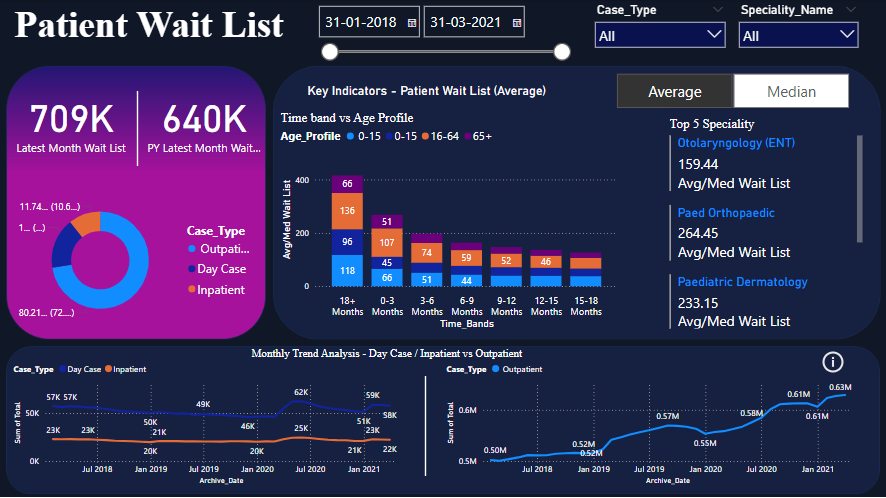

Layout of this report page (visuals, bound fields, positions):
{"tool":"powerbi","page":{"name":"Summary","canvas":[1280,720],"ordinal":0},"visuals":[{"type":"card","fields":{"Values":["All_Data.Latest Month Wait List"]},"box":[16,112,176,128],"z":0},{"type":"card","fields":{"Values":["All_Data.PY Latest Month Wait List"]},"box":[208,112,176,128],"z":1000},{"type":"slicer","fields":{"Values":["Calculation Method.Calc Method"]},"box":[864,100.8,384.5,63.4],"z":2000},{"type":"donutChart","fields":{"Category":["All_Data.Case_Type"],"Y":["All_Data.Avg/Med Wait List"]},"box":[16,272,368,208],"z":3000},{"type":"columnChart","fields":{"Y":["All_Data.Avg/Med Wait List"],"Category":["All_Data.Time_Bands"],"Series":["All_Data.Age_Profile"]},"box":[400,176,496,304],"z":4000},{"type":"multiRowCard","fields":{"Values":["All_Data.Speciality_Name","All_Data.Avg/Med Wait List"]},"box":[960,192,288,288],"z":5000},{"type":"lineChart","fields":{"Category":["All_Data.Archive_Date"],"Y":["Sum(All_Data.Total)"],"Series":["All_Data.Case_Type"]},"box":[16,512,576,192],"z":6000},{"type":"lineChart","fields":{"Category":["All_Data.Archive_Date"],"Y":["Sum(All_Data.Total)"],"Series":["All_Data.Case_Type"]},"box":[640,512,608,192],"z":7000},{"type":"slicer","fields":{"Values":["All_Data.Archive_Date"]},"box":[448,0,384,96],"z":8000},{"type":"slicer","fields":{"Values":["All_Data.Case_Type"]},"box":[848,0,208,96],"z":9000},{"type":"slicer","fields":{"Values":["All_Data.Speciality_Name"]},"box":[1056,0,192,96],"z":10000},{"type":"textbox","box":[0,0,432,96],"z":11000},{"type":"shape","box":[174.2,132.5,50.4,108],"z":12000},{"type":"shape","box":[589,542.9,50.4,144],"z":13000},{"type":"textbox","box":[400.3,155.5,272.2,31.7],"z":14000},{"type":"textbox","box":[960.5,164.2,252,43.2],"z":15000},{"type":"textbox","box":[358.6,496.8,424.8,56.2],"z":16000},{"type":"card","fields":{"Values":["All_Data.Dynamic Title"]},"box":[303.8,100.8,623.5,63.4],"z":17000},{"type":"actionButton","box":[1180.8,502.6,99.4,40.3],"z":18000}]}

Visuals, with their boxes in screenshot pixels (x1, y1, x2, y2), scaled from the page's 1280x720 canvas onto the 886x498 screenshot:
card - All_Data.Latest Month Wait List: bbox(11, 77, 133, 166)
card - All_Data.PY Latest Month Wait List: bbox(144, 77, 266, 166)
slicer - Calculation Method.Calc Method: bbox(598, 70, 864, 114)
donutChart - All_Data.Case_Type x All_Data.Avg/Med Wait List: bbox(11, 188, 266, 332)
columnChart - All_Data.Avg/Med Wait List x All_Data.Time_Bands: bbox(277, 122, 620, 332)
multiRowCard - All_Data.Speciality_Name x All_Data.Avg/Med Wait List: bbox(664, 133, 864, 332)
lineChart - All_Data.Archive_Date x Sum(All_Data.Total): bbox(11, 354, 410, 487)
lineChart - All_Data.Archive_Date x Sum(All_Data.Total): bbox(443, 354, 864, 487)
slicer - All_Data.Archive_Date: bbox(310, 0, 576, 66)
slicer - All_Data.Case_Type: bbox(587, 0, 731, 66)
slicer - All_Data.Speciality_Name: bbox(731, 0, 864, 66)
textbox: bbox(0, 0, 299, 66)
shape: bbox(121, 92, 155, 166)
shape: bbox(408, 376, 443, 475)
textbox: bbox(277, 108, 465, 129)
textbox: bbox(665, 114, 839, 143)
textbox: bbox(248, 344, 542, 382)
card - All_Data.Dynamic Title: bbox(210, 70, 642, 114)
actionButton: bbox(817, 348, 885, 376)
